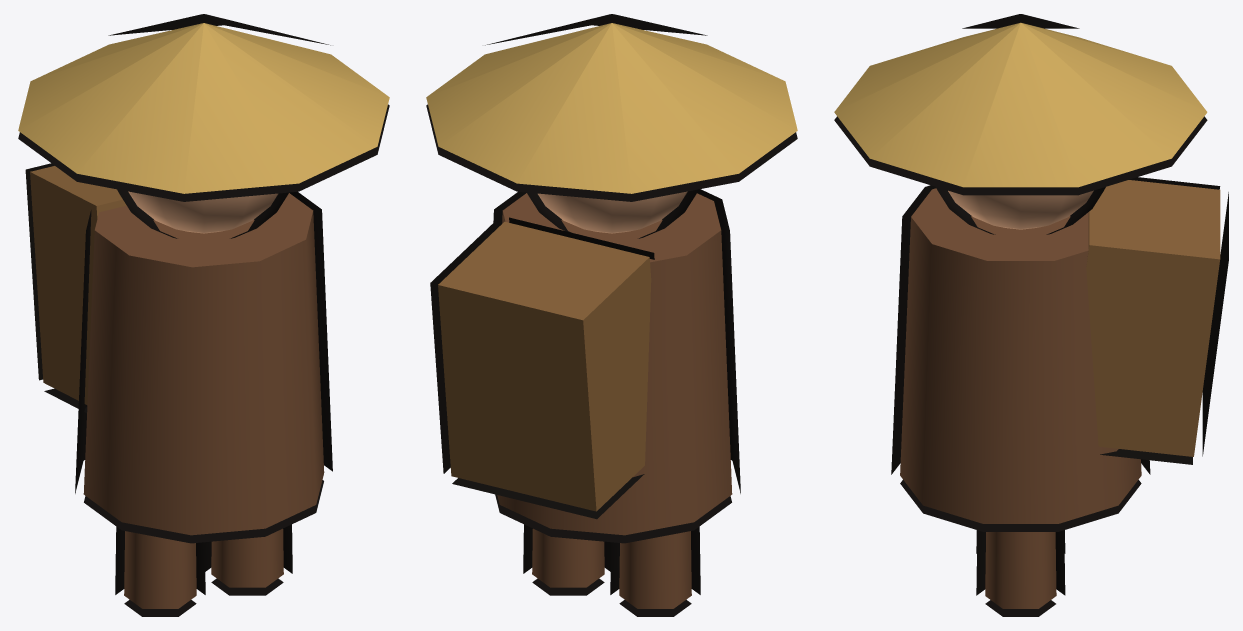
Rendered from phutapdich.glb.
3 views of the same model, side by side, from view 1: azimuth 30°, elevation 25°; view 2: azimuth 150°, elevation 25°; view 3: azimuth 270°, elevation 25° (orthographic).
Visible parts, largest first — view 1: MP_Torso, MP_Hat, MP_Pack, MP_Torso_outline, MP_Leg_0, MP_Hat_outline, MP_Head, MP_Leg_1, MP_Leg_0_outline, MP_Pack_outline, MP_Leg_1_outline, MP_Head_outline; view 2: MP_Pack, MP_Hat, MP_Torso, MP_Torso_outline, MP_Leg_0, MP_Pack_outline, MP_Hat_outline, MP_Head, MP_Leg_1, MP_Leg_0_outline, MP_Leg_1_outline, MP_Head_outline; view 3: MP_Torso, MP_Hat, MP_Pack, MP_Leg_1, MP_Torso_outline, MP_Hat_outline, MP_Head, MP_Pack_outline, MP_Leg_1_outline, MP_Head_outline.
Boxes of the visible parts, x1,y1,x2,y2 form: MP_Torso: (83, 193, 324, 535); MP_Hat: (18, 23, 389, 193); MP_Pack: (30, 166, 126, 404); MP_Torso_outline: (75, 191, 332, 543); MP_Leg_0: (124, 531, 196, 608); MP_Hat_outline: (18, 14, 389, 201); MP_Head: (128, 191, 277, 233); MP_Leg_1: (211, 528, 283, 587); MP_Leg_0_outline: (115, 526, 205, 616); MP_Pack_outline: (25, 163, 87, 412); MP_Leg_1_outline: (205, 524, 292, 595); MP_Head_outline: (117, 189, 288, 238); MP_Pack: (438, 221, 651, 511); MP_Hat: (426, 23, 797, 193); MP_Torso: (497, 193, 732, 535); MP_Torso_outline: (493, 189, 740, 543); MP_Leg_0: (619, 531, 691, 608); MP_Pack_outline: (430, 217, 654, 519); MP_Hat_outline: (426, 14, 797, 201); MP_Head: (538, 191, 687, 233); MP_Leg_1: (532, 528, 604, 587); MP_Leg_0_outline: (610, 526, 700, 616); MP_Leg_1_outline: (523, 524, 610, 595); MP_Head_outline: (527, 189, 698, 238); MP_Torso: (900, 188, 1141, 523); MP_Hat: (834, 22, 1207, 187); MP_Pack: (1086, 180, 1220, 456); MP_Leg_1: (985, 532, 1056, 608); MP_Torso_outline: (891, 185, 1150, 531); MP_Hat_outline: (834, 14, 1207, 195); MP_Head: (948, 190, 1093, 229); MP_Pack_outline: (1100, 177, 1228, 464); MP_Leg_1_outline: (976, 530, 1065, 616); MP_Head_outline: (936, 187, 1105, 234).
Bounding box in the file's own units: 0.661 × 1.14 × 0.7265.
